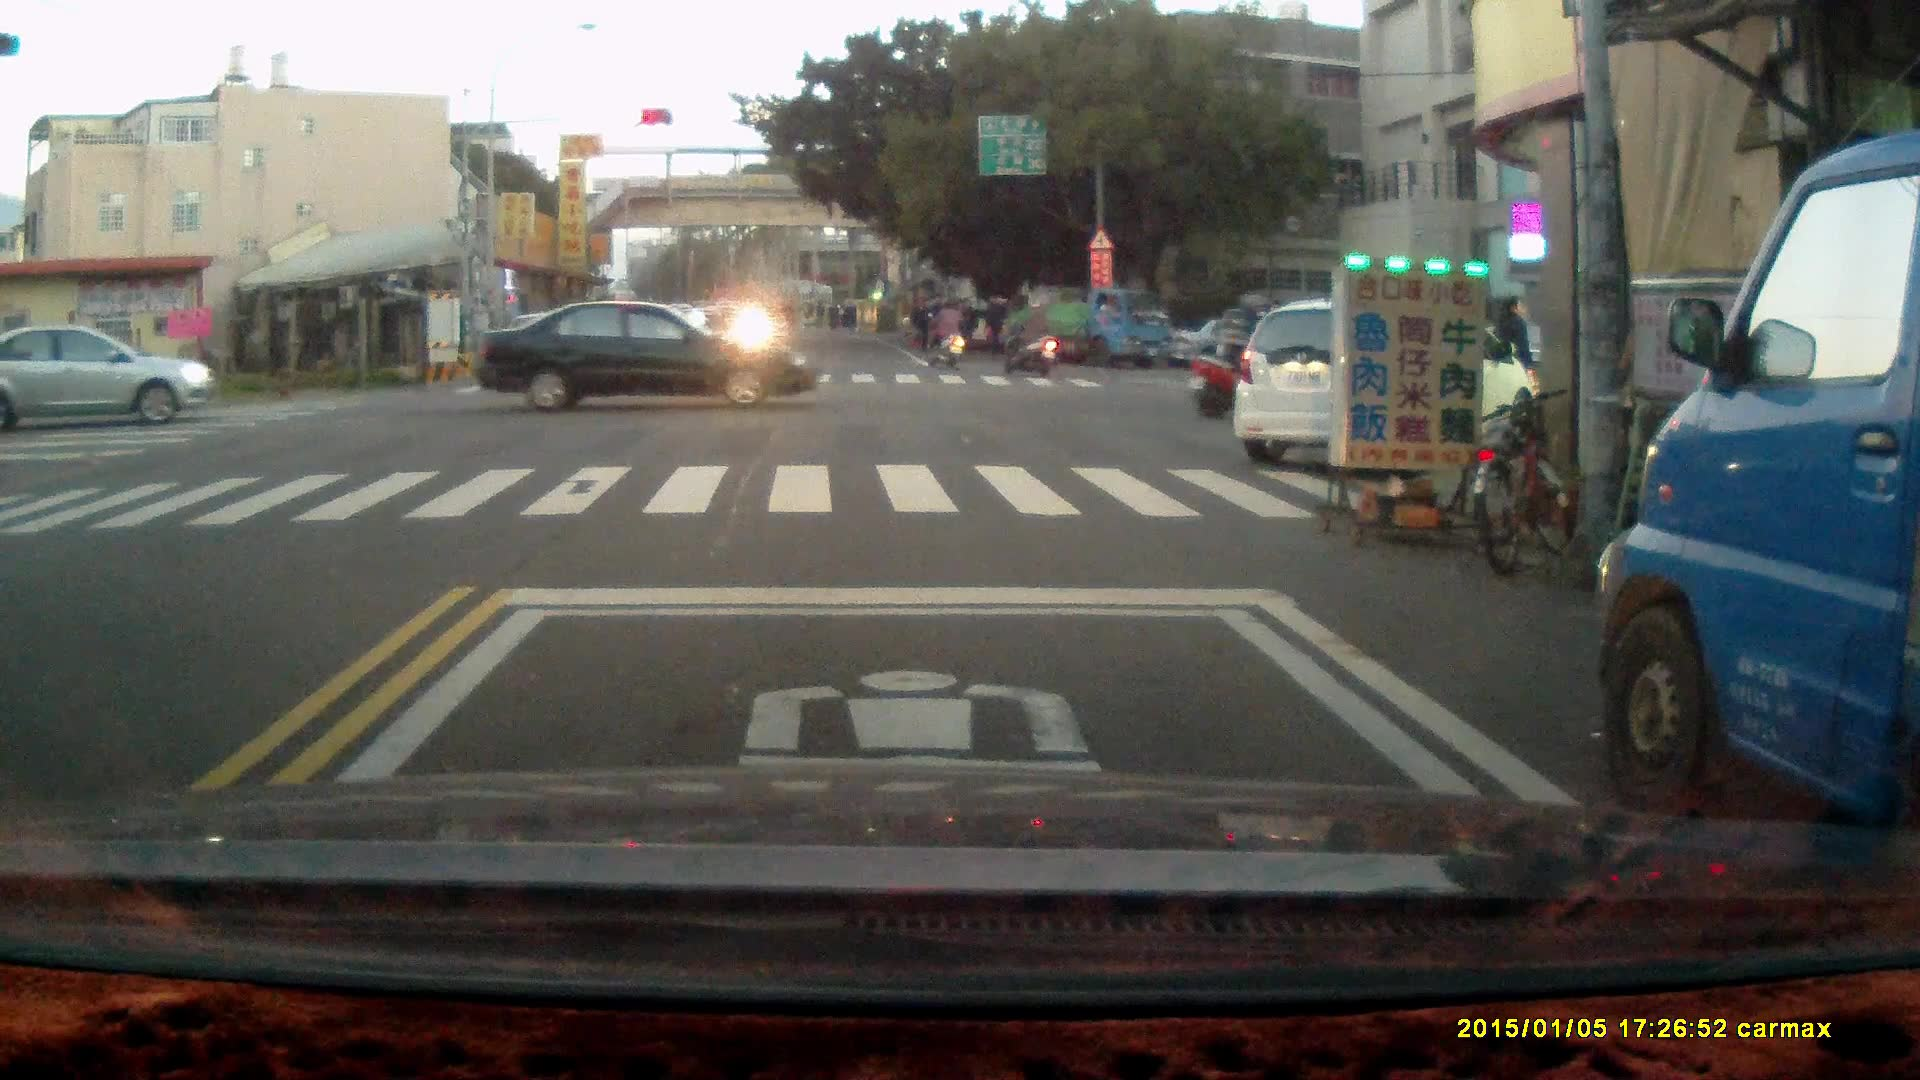pedestrian: (1491, 296, 1532, 389)
rider: (1188, 289, 1303, 416), (1003, 297, 1059, 376), (925, 295, 966, 368)
vehicle: (1598, 132, 1920, 843), (1233, 296, 1533, 459), (480, 299, 821, 410), (1, 322, 218, 431), (1002, 284, 1179, 367)
